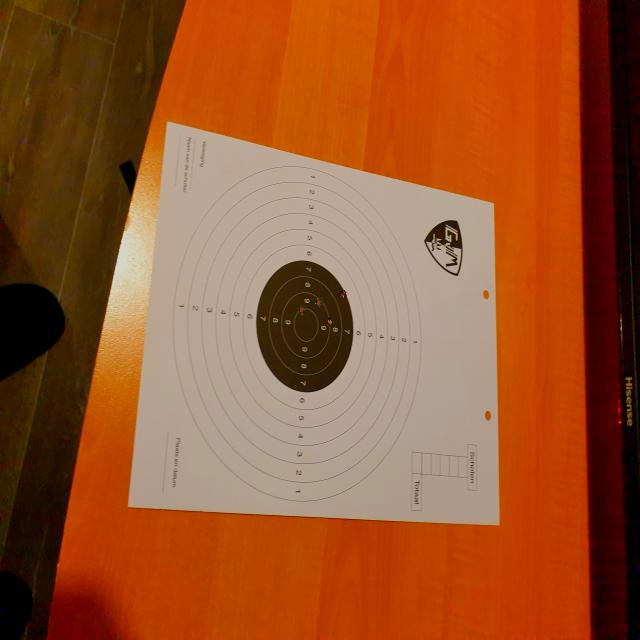10: (297, 306, 306, 316)
7: (339, 290, 347, 300)
9: (314, 296, 324, 308), (326, 317, 334, 326)
Target: (172, 167, 422, 502)
black_contour: (256, 261, 354, 393)
